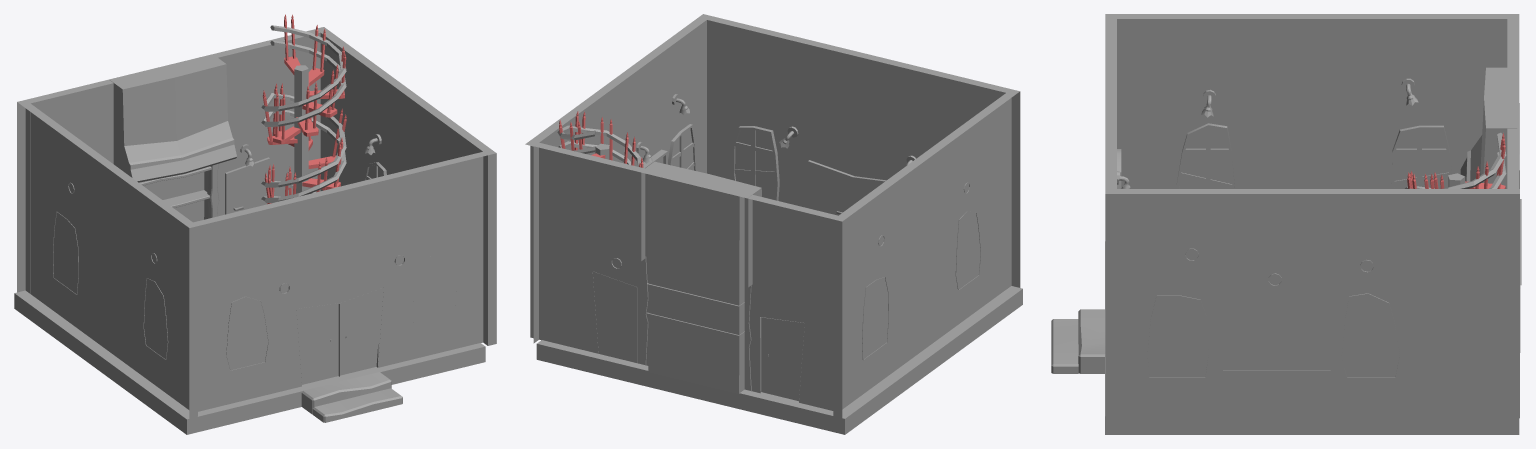
The model's file is taverne_tech.fbx.
The picture shows the model from 3 angles, left to right: view 1: azimuth 30°, elevation 25°; view 2: azimuth 150°, elevation 25°; view 3: azimuth 270°, elevation 25°; orthographic projection. The views are drawn at different scales.
Visible parts, largest first — view 1: mur_front, mur_left, mur_back, mur_right, arriere_bar, sol, Escalier, escalier_ext, porte_L1, porte_R1, porte_R; view 2: mur_back, mur_left, mur_front, mur_right, sol, porte_wc, arriere_bar, fenetre06, Escalier, porte_L1, fenetre01, porte_R1; view 3: mur_right, mur_left, sol, mur_front, arriere_bar, escalier_ext, fenetre04, fenetre03, mur_back, Escalier.
Part boxes in pixels (x1,y1,x2,y2): mur_front: (193,149,496,411); mur_left: (17,100,197,418); mur_back: (25,27,328,293); mur_right: (318,27,496,345); arriere_bar: (110,54,236,218); sol: (14,290,485,434); Escalier: (261,14,346,204); escalier_ext: (301,372,402,422); porte_L1: (338,289,383,376); porte_R1: (296,304,338,384); porte_R: (225,157,269,214); mur_back: (525,140,837,410); mur_left: (833,89,1020,418); mur_front: (698,14,1011,289); mur_right: (525,17,706,343); sol: (536,286,1022,434); porte_wc: (760,317,804,401); arriere_bar: (641,161,761,391); fenetre06: (732,126,779,200); Escalier: (557,111,643,167); porte_L1: (808,160,854,215); fenetre01: (668,124,696,170); porte_R1: (853,176,886,204); mur_right: (1117,189,1519,418); mur_left: (1105,14,1519,188); sol: (1105,241,1519,434); mur_front: (1105,19,1116,423); arriere_bar: (1460,67,1521,285); escalier_ext: (1051,309,1105,373); fenetre04: (1391,125,1451,188); fenetre03: (1176,123,1234,188); mur_back: (1507,19,1520,352); Escalier: (1405,132,1506,188).
Bounding box in the file's own units: 830 × 601 × 909.
